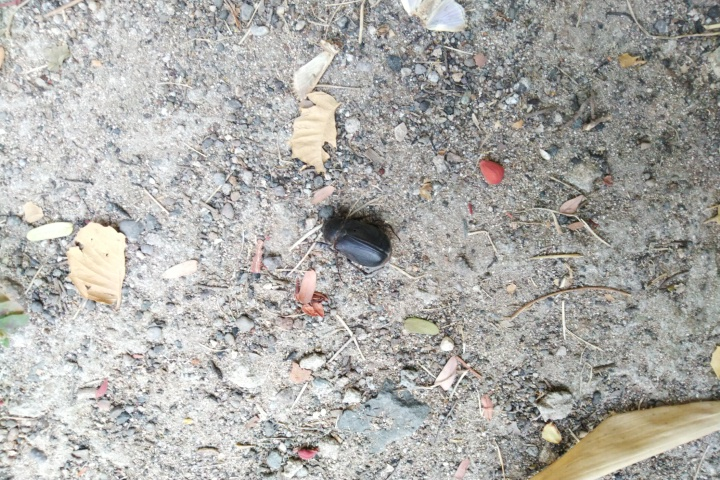INS-A: (305, 197, 419, 283)
